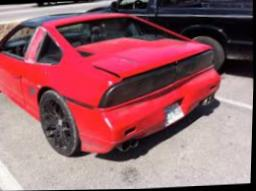Dickey: (90, 38, 212, 81)
Windshield: (57, 14, 190, 64)
